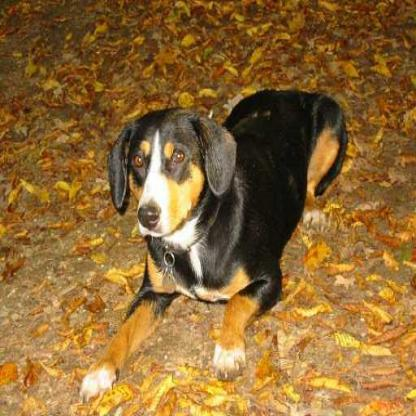EntleBucher: (77, 87, 348, 405)
